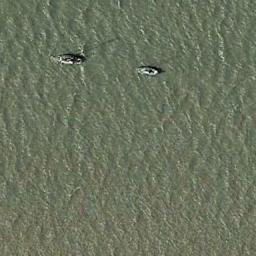boat: (50, 52, 86, 66), (136, 66, 160, 76)
